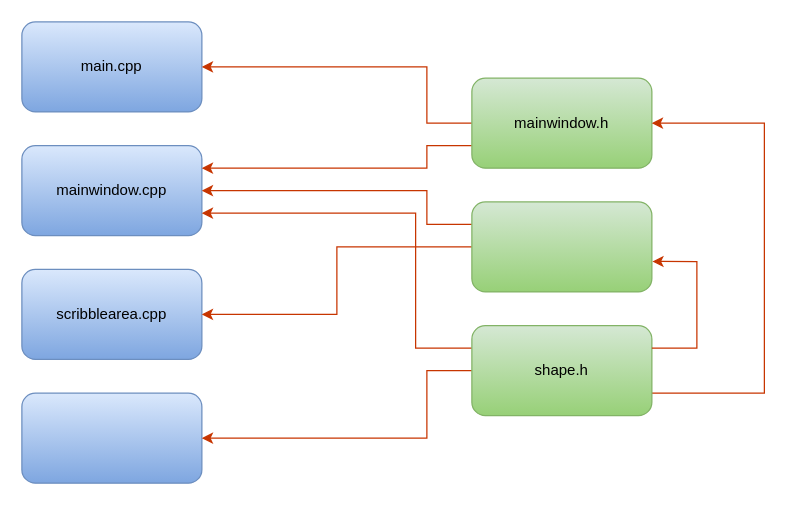
This 796x505 diagram has some shape labels left out. Each missing label, with the centre of its shape:
"scribblearea.h" belongs at pixel 561 246.
"shape.cpp" belongs at pixel 111 437.
